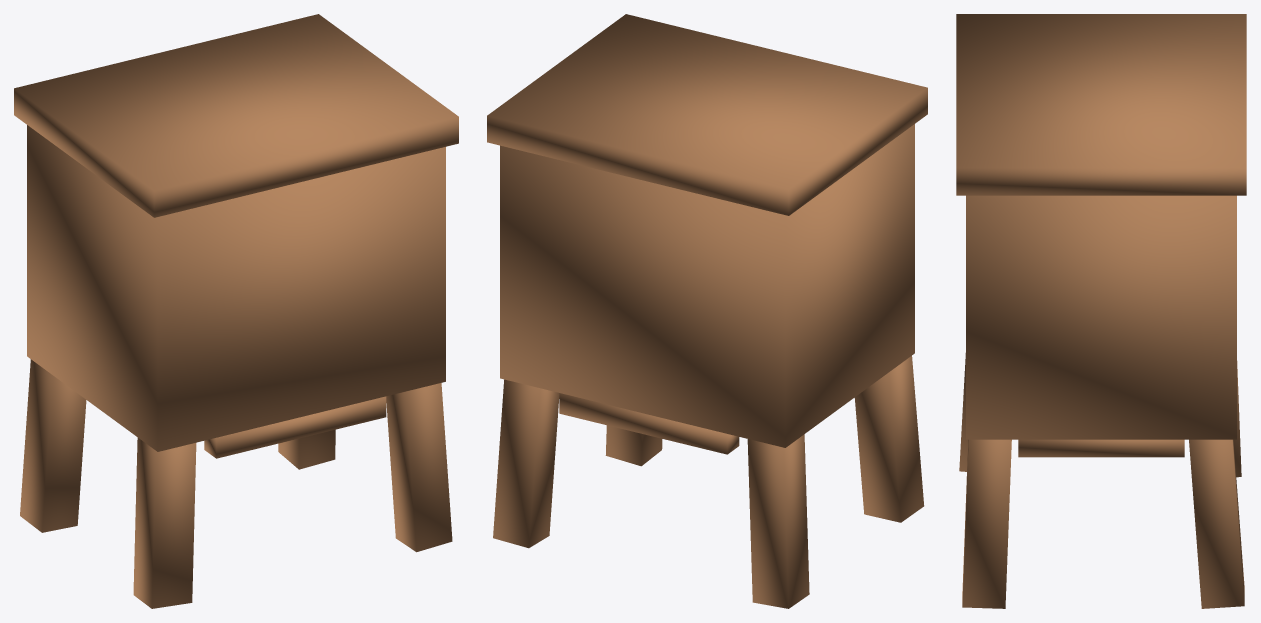
File: kotakamal.glb
3 renders of one model, left to right at view 1: azimuth 30°, elevation 25°; view 2: azimuth 150°, elevation 25°; view 3: azimuth 270°, elevation 25°, orthographic. The views are drawn at different scales.
Parts seen in each view (by area): view 1: BoxBody, Lid, Leg_BL, Leg_BR, Leg_FL, Brace_Back, Leg_FR; view 2: BoxBody, Lid, Leg_FL, Leg_FR, Leg_BL, Brace_Front, Leg_BR; view 3: BoxBody, Lid, Leg_FR, Leg_BR, Brace_Right, Leg_BL, Leg_FL.
Boxes of the visible parts, x1,y1,x2,y2 form: BoxBody: [27, 125, 445, 451]; Lid: [14, 14, 458, 217]; Leg_BL: [133, 437, 196, 608]; Leg_BR: [386, 383, 452, 552]; Leg_FL: [20, 359, 86, 532]; Brace_Back: [204, 396, 386, 458]; Leg_FR: [278, 429, 335, 469]; BoxBody: [500, 124, 914, 447]; Lid: [487, 14, 927, 215]; Leg_FL: [747, 434, 809, 608]; Leg_FR: [493, 379, 559, 548]; Leg_BL: [854, 356, 924, 522]; Brace_Front: [559, 393, 739, 454]; Leg_BR: [605, 425, 662, 466]; BoxBody: [966, 195, 1236, 439]; Lid: [956, 14, 1246, 195]; Leg_FR: [1189, 439, 1244, 608]; Leg_BR: [962, 439, 1011, 608]; Brace_Right: [1018, 439, 1184, 457]; Leg_BL: [959, 353, 968, 471]; Leg_FL: [1233, 361, 1241, 477].
Size of the model in its own units: 0.148 by 0.1995 by 0.118.
